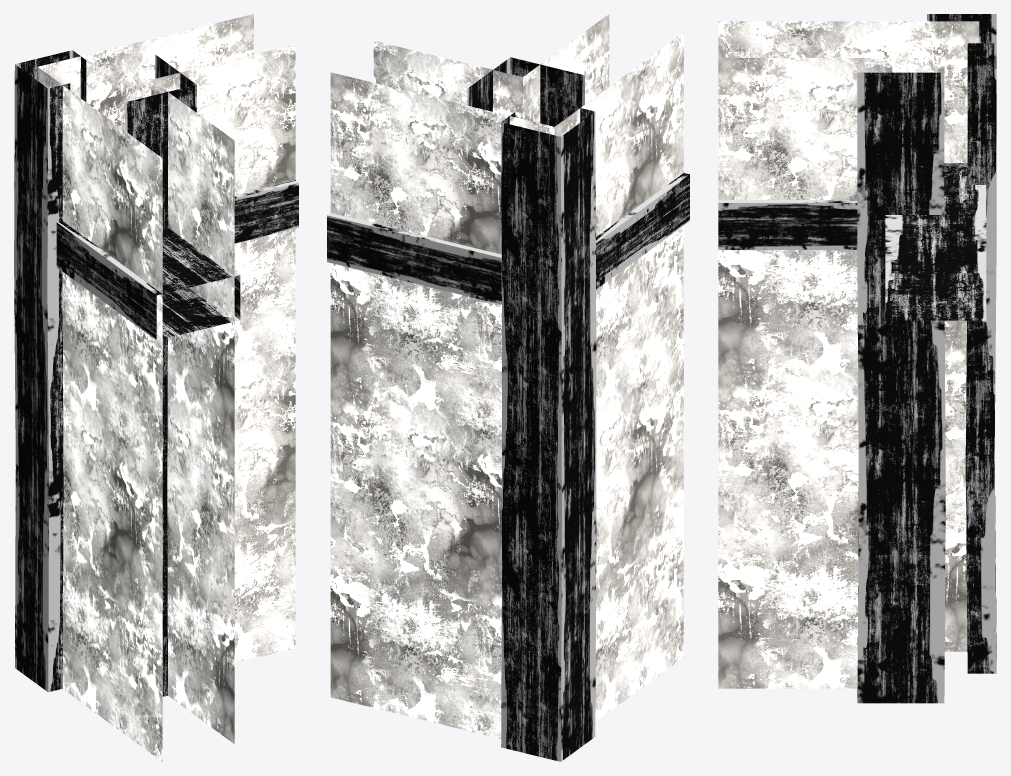
The model's file is SM_wall_A_corner_4_02_02.fbx.
The picture shows the model from 3 angles, left to right: view 1: azimuth 30°, elevation 25°; view 2: azimuth 150°, elevation 25°; view 3: azimuth 270°, elevation 25°; orthographic projection. The views are drawn at different scales.
Visible parts, largest first — view 1: SM_wall_A_corner_4_02_02_LOD0; view 2: SM_wall_A_corner_4_02_02_LOD0; view 3: SM_wall_A_corner_4_02_02_LOD0.
Boxes of the visible parts, <box> form: SM_wall_A_corner_4_02_02_LOD0: <box>14,14,298,761</box>; SM_wall_A_corner_4_02_02_LOD0: <box>327,14,689,761</box>; SM_wall_A_corner_4_02_02_LOD0: <box>718,14,996,703</box>.
Bounding box in the file's own units: 161 × 160 × 400.
3 materials, 3 textured.
